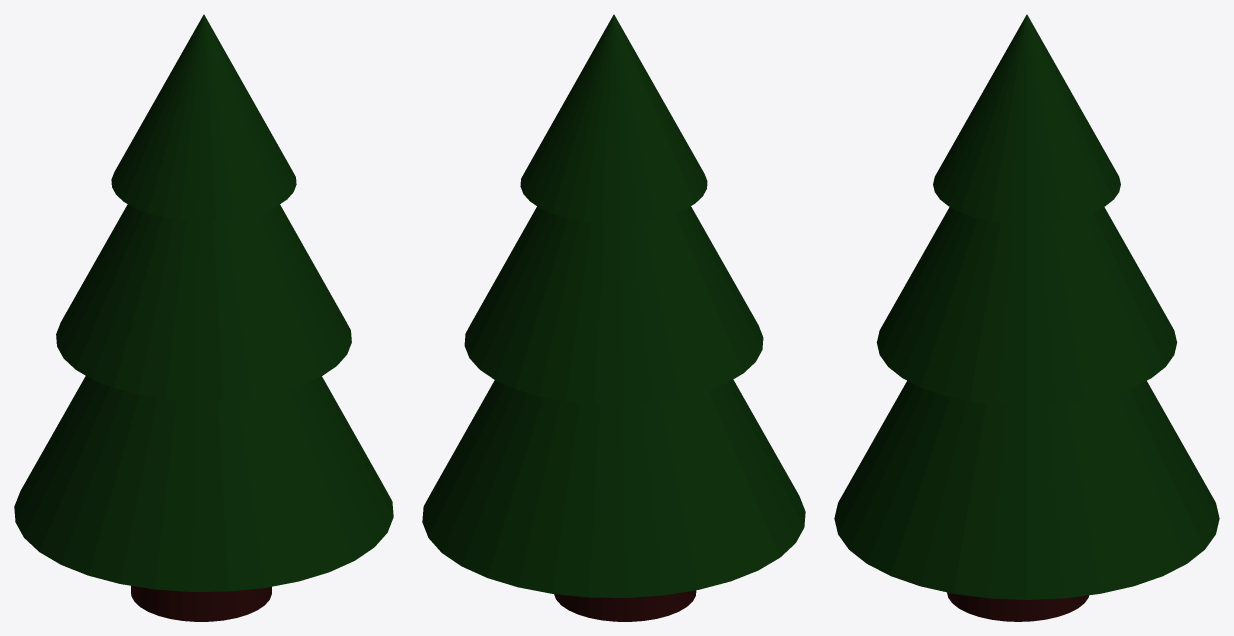
The model's file is tree.obj.
3 renders of one model, left to right at view 1: azimuth 30°, elevation 25°; view 2: azimuth 150°, elevation 25°; view 3: azimuth 270°, elevation 25°, orthographic.
Visible parts, largest first — view 1: Cone, Cone.001_Cone.002, Cone.002_Cone.003, Cylinder_Cylinder.001; view 2: Cone, Cone.001_Cone.002, Cone.002_Cone.003, Cylinder_Cylinder.001; view 3: Cone, Cone.001_Cone.002, Cone.002_Cone.003, Cylinder_Cylinder.001.
Part boxes in pixels (x1,y1,x2,y2): Cone: [14, 376, 393, 591]; Cone.001_Cone.002: [56, 204, 351, 400]; Cone.002_Cone.003: [111, 14, 296, 221]; Cylinder_Cylinder.001: [131, 586, 271, 621]; Cone: [422, 379, 805, 597]; Cone.001_Cone.002: [464, 206, 763, 404]; Cone.002_Cone.003: [520, 14, 707, 223]; Cylinder_Cylinder.001: [554, 590, 696, 621]; Cone: [834, 380, 1219, 599]; Cone.001_Cone.002: [876, 207, 1177, 405]; Cone.002_Cone.003: [933, 14, 1120, 223]; Cylinder_Cylinder.001: [947, 592, 1088, 621].
Bounding box in the file's own units: 3.81 × 6.34 × 3.81.
